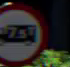Heavy Vehicles: (0, 4, 48, 65)
